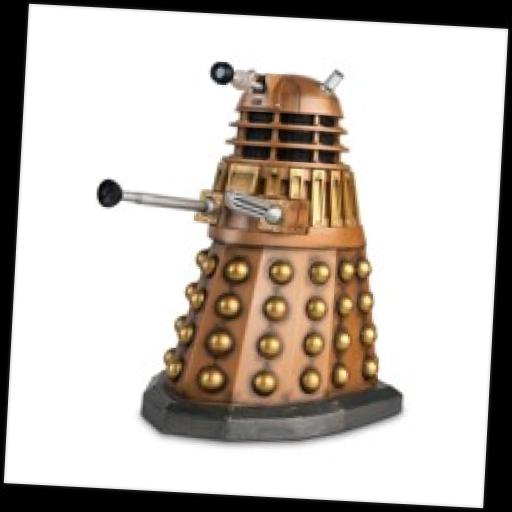dalek: (73, 49, 422, 454)
